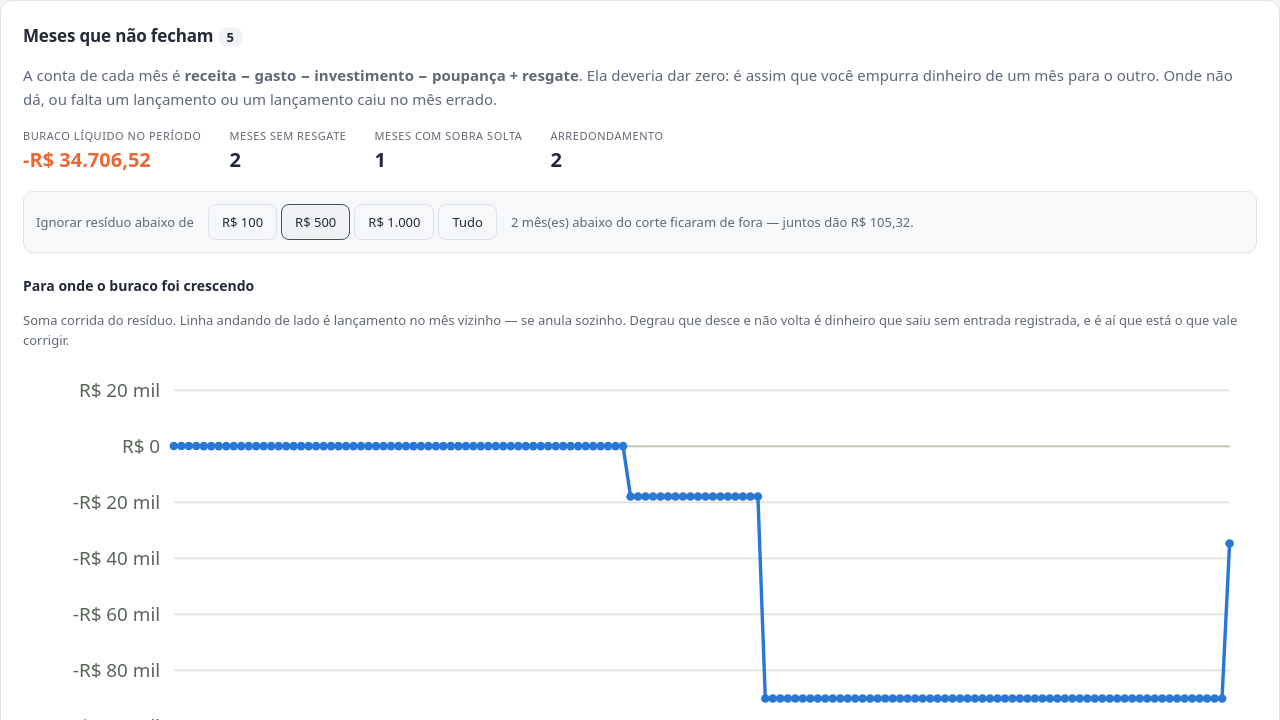
it: Residuos — os meses que não fecham › o corte é ajustável — quem quer ver centavo, vê
Click the button "Tudo".
click(468, 222)  # box [438,204,497,240]
(page scrolled)
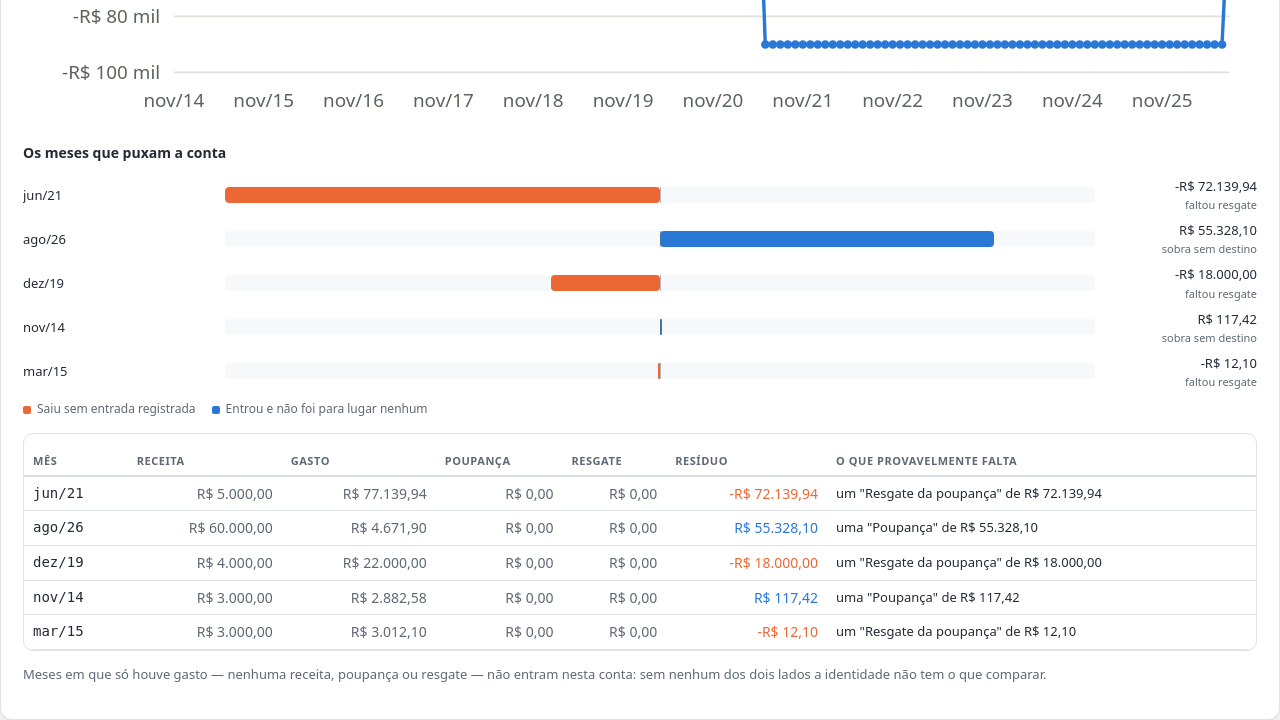
Check: the text "uma \"Poupança\" de R$ 117,42" is shown, box [827,580,1256,615]
